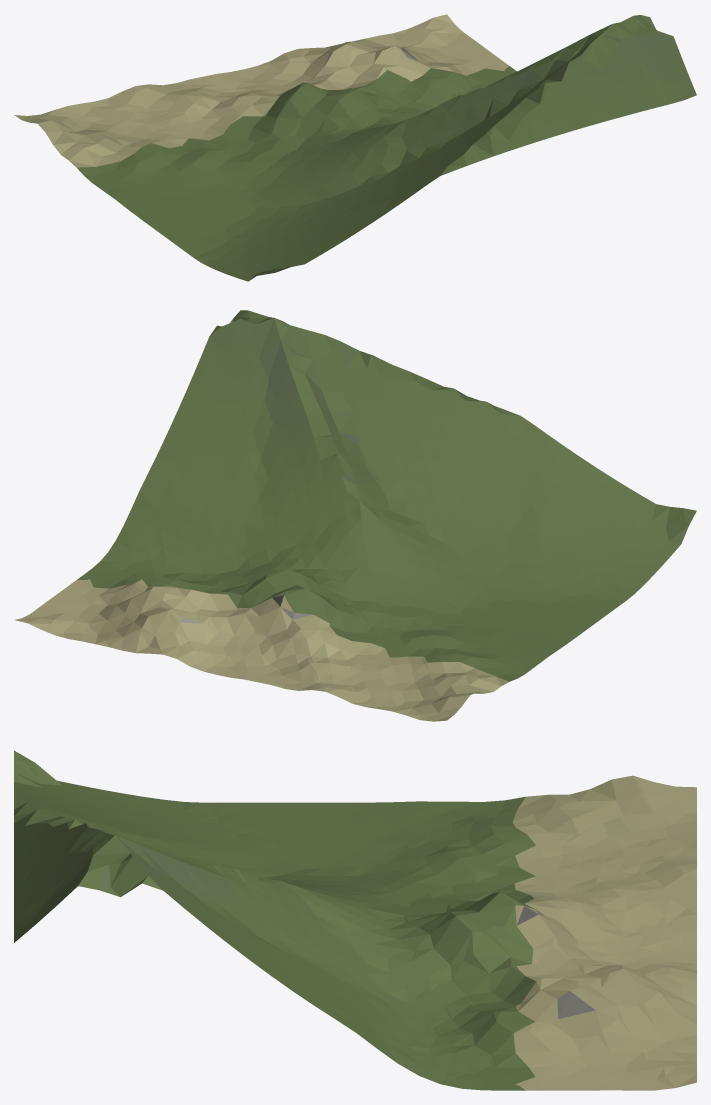
The model's file is Ground_-4_-6.glb.
3 renders of one model, top to bottom at view 1: azimuth 30°, elevation 25°; view 2: azimuth 150°, elevation 25°; view 3: azimuth 270°, elevation 25°, orthographic. The views are drawn at different scales.
Parts seen in each view (by area): view 1: Ground_-4_-6; view 2: Ground_-4_-6; view 3: Ground_-4_-6.
Part boxes in pixels (x1=…): Ground_-4_-6: x1=14, y1=14, x2=696, y2=281; Ground_-4_-6: x1=15, y1=310, x2=696, y2=721; Ground_-4_-6: x1=14, y1=750, x2=696, y2=1090.
Size of the model in its own units: 768 by 279 by 768.
